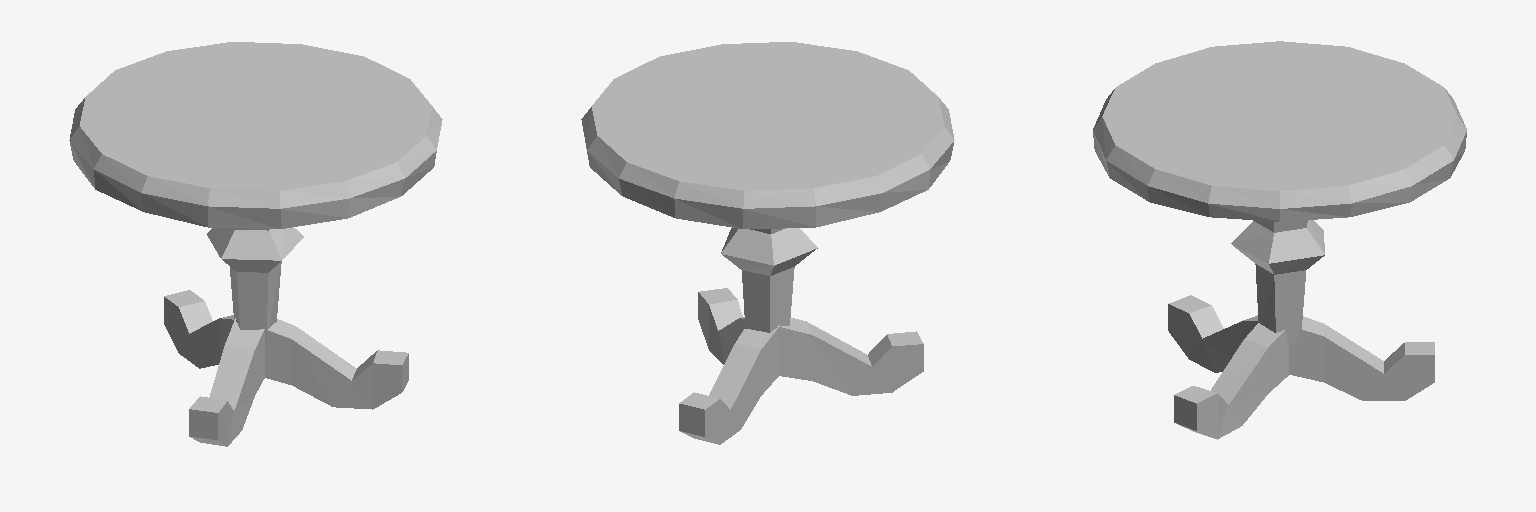
The model's file is round_table.obj.
3 views of the same model, side by side, from view 1: azimuth 30°, elevation 25°; view 2: azimuth 150°, elevation 25°; view 3: azimuth 270°, elevation 25° (orthographic).
Visible parts, largest first — view 1: part2_texture2.001, part1_texture1; view 2: part2_texture2.001, part1_texture1; view 3: part2_texture2.001, part1_texture1.
Boxes of the visible parts, x1,y1,x2,y2 form: part2_texture2.001: [69, 42, 442, 446]; part1_texture1: [164, 297, 401, 446]; part2_texture2.001: [581, 42, 954, 444]; part1_texture1: [698, 292, 923, 444]; part2_texture2.001: [1093, 41, 1466, 438]; part1_texture1: [1168, 304, 1434, 439].
Bounding box in the file's own units: 0.7734 × 0.6367 × 0.7734.